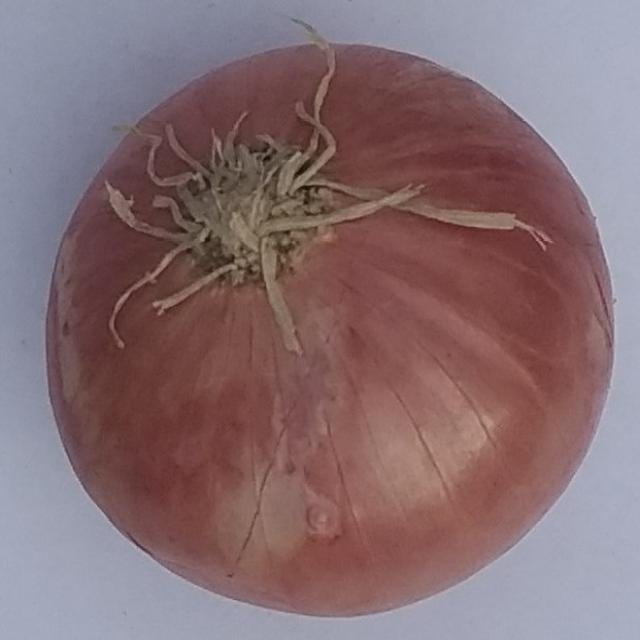onion: (44, 14, 618, 620)
